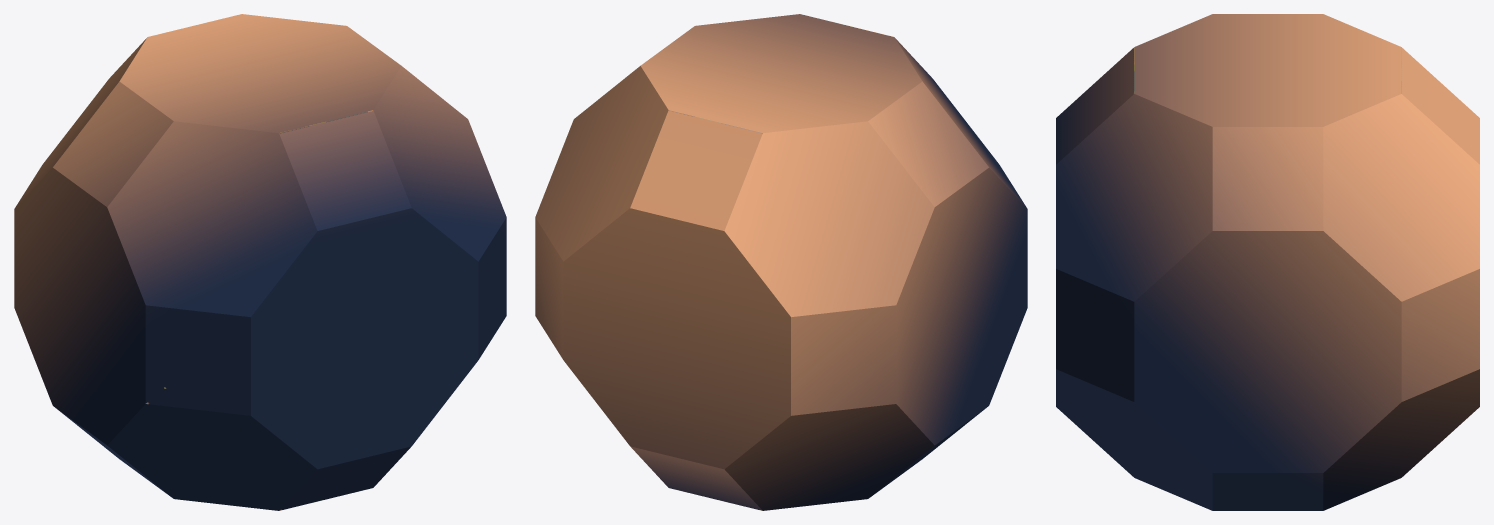
Rendered from Truncated Cuboctahedron.glb.
3 views of the same model, side by side, from view 1: azimuth 30°, elevation 25°; view 2: azimuth 150°, elevation 25°; view 3: azimuth 270°, elevation 25° (orthographic).
Visible parts, largest first — view 1: Truncated Cuboctahedron; view 2: Truncated Cuboctahedron; view 3: Truncated Cuboctahedron.
Boxes of the visible parts, <box> form: Truncated Cuboctahedron: <box>14,14,506,510</box>; Truncated Cuboctahedron: <box>535,14,1027,510</box>; Truncated Cuboctahedron: <box>1056,14,1479,510</box>.
Size of the model in its own units: 1.38 by 1.38 by 1.38.
Materials: 1 (1 with a texture image).
